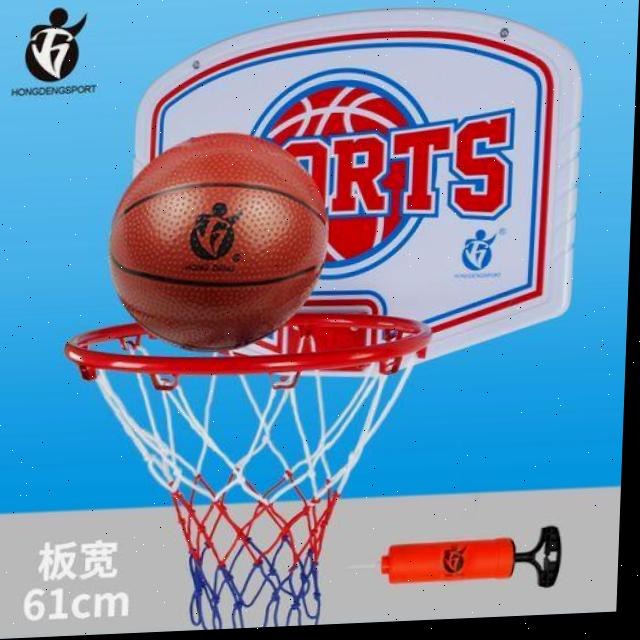basketball: (106, 129, 333, 358)
hoop: (56, 305, 435, 636)
